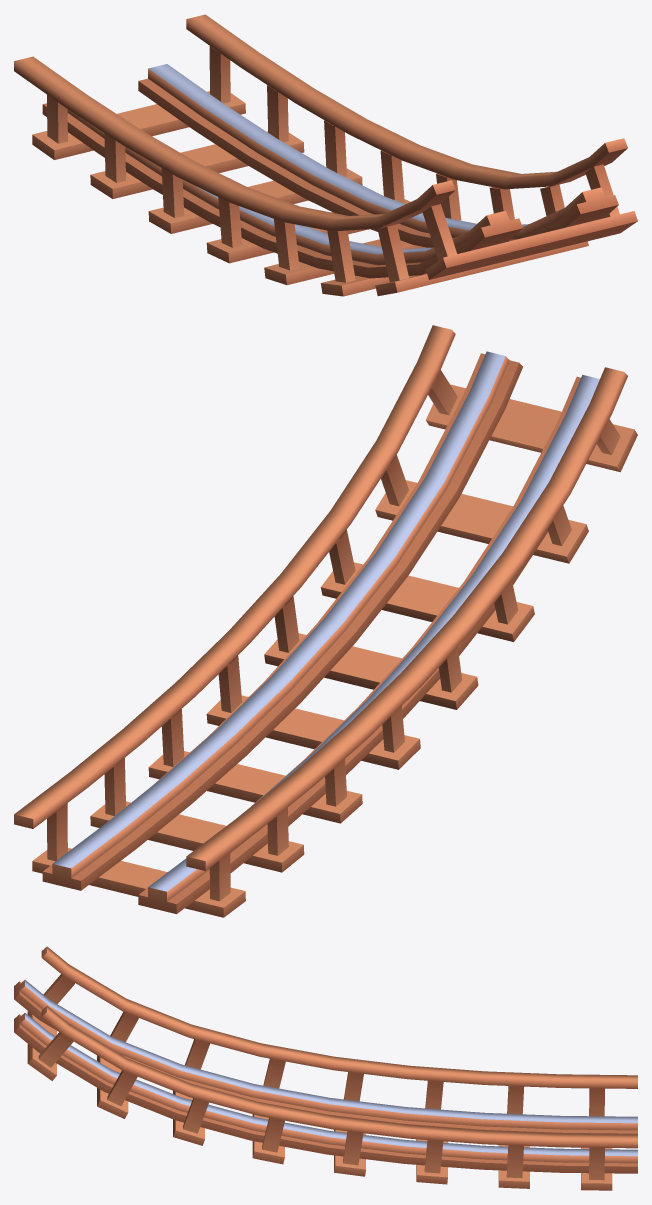
File: coaster-wood-straight-hill-beginning.glb
3 renders of one model, top to bottom at view 1: azimuth 30°, elevation 25°; view 2: azimuth 150°, elevation 25°; view 3: azimuth 270°, elevation 25°, orthographic. The views are drawn at different scales.
Visible parts, largest first — view 1: coaster-wood-straight-hill-beginning; view 2: coaster-wood-straight-hill-beginning; view 3: coaster-wood-straight-hill-beginning.
Boxes of the visible parts, left/top/right/bottom form: coaster-wood-straight-hill-beginning: left=14, top=14, right=637, bottom=296; coaster-wood-straight-hill-beginning: left=14, top=325, right=637, bottom=917; coaster-wood-straight-hill-beginning: left=14, top=946, right=637, bottom=1190.
Size of the model in its own units: 1 by 1.26 by 4.
Materials: 1 (1 with a texture image).
